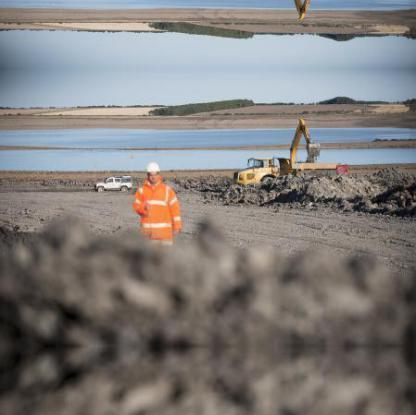helmet: (144, 160, 162, 175)
